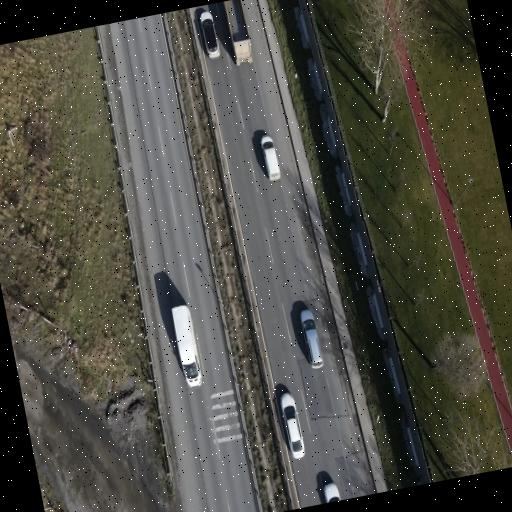UAI: (173, 306, 202, 387), (224, 0, 253, 65)
harvester: (172, 305, 202, 387), (281, 393, 305, 458), (301, 309, 323, 368), (199, 10, 221, 59), (261, 135, 280, 181), (324, 483, 340, 502)
